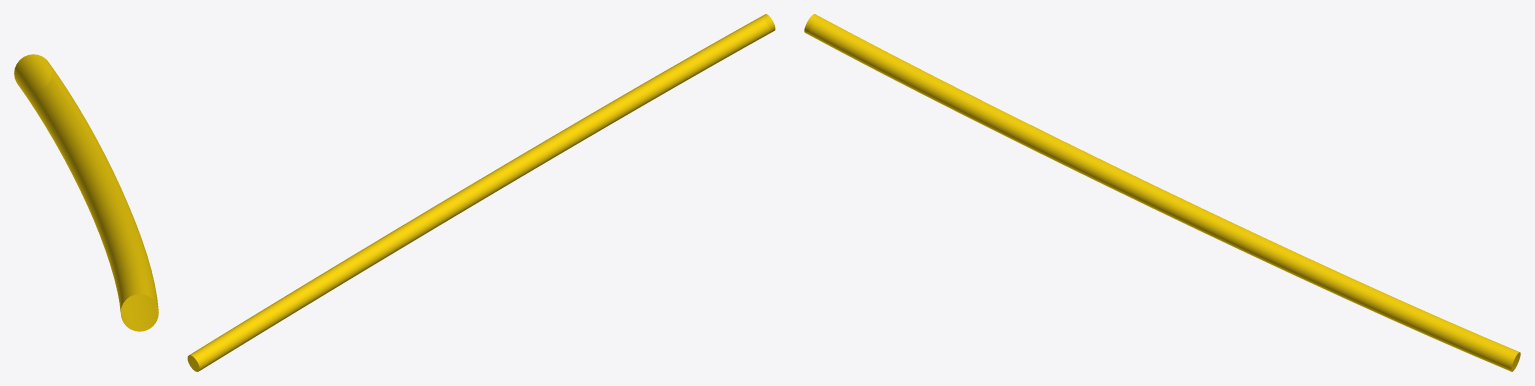
File: Event_420107950_track_42.fbx
3 views of the same model, side by side, from view 1: azimuth 90°, elevation 25°; view 2: azimuth 210°, elevation 25°; view 3: azimuth 330°, elevation 25° (orthographic). The views are drawn at different scales.
Visible parts, largest first — view 1: Model; view 2: Model; view 3: Model.
Boxes of the visible parts, x1=… form: Model: x1=14, y1=54, x2=158, y2=331; Model: x1=187, y1=14, x2=775, y2=371; Model: x1=804, y1=14, x2=1520, y2=371.
Size of the model in its own units: 1.47 by 0.4411 by 0.1513.
